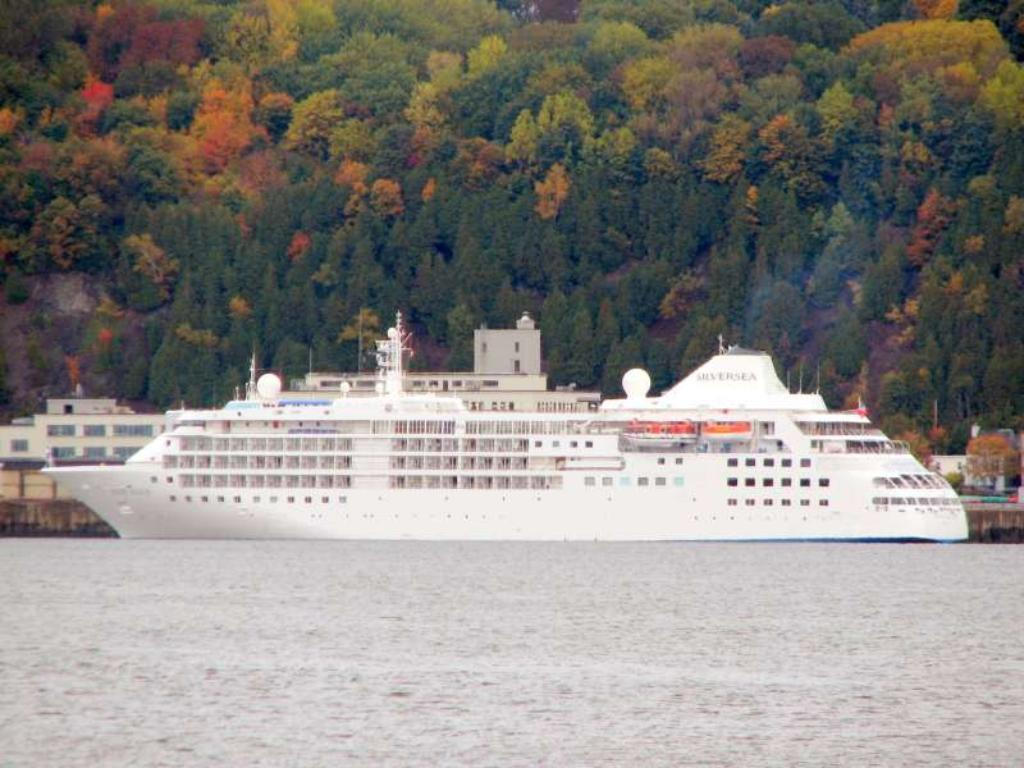PassengerShip: (26, 312, 978, 550)
